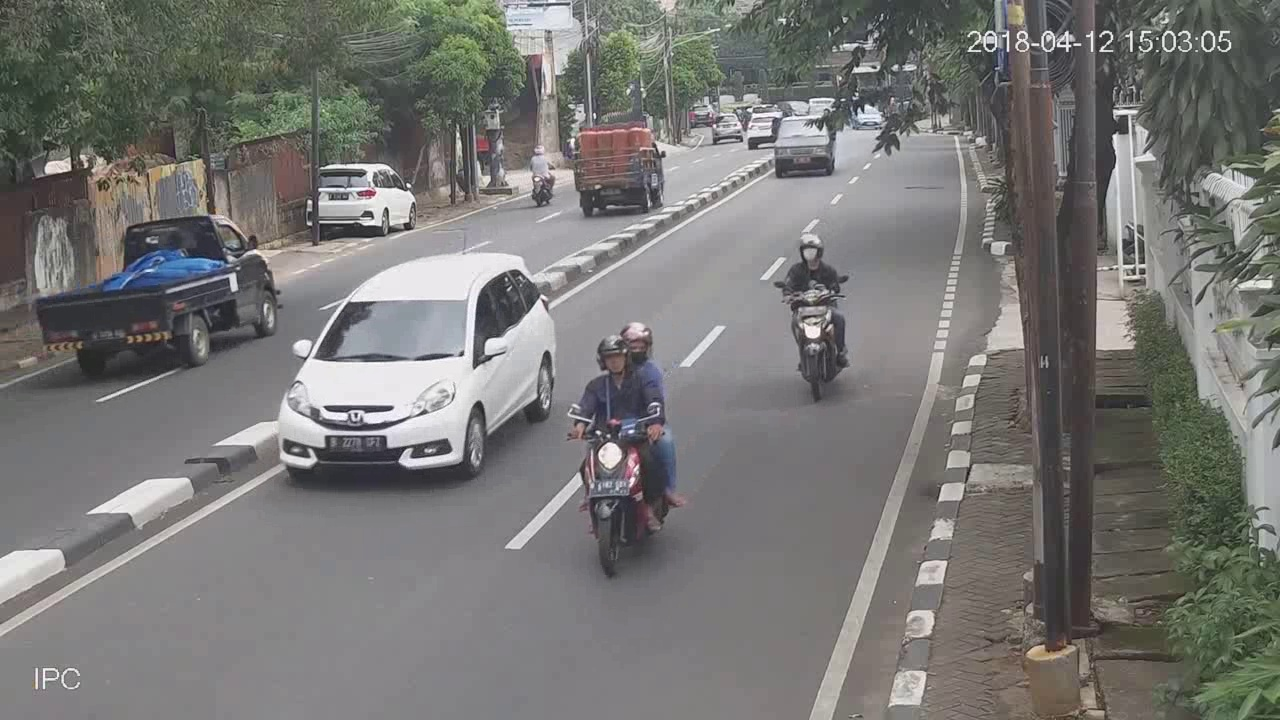car: (279, 253, 557, 478), (303, 163, 418, 236), (774, 113, 836, 177)
motorcycle: (564, 320, 688, 580), (772, 230, 858, 403), (527, 140, 559, 209)
truck: (34, 216, 282, 367), (573, 124, 668, 216)
